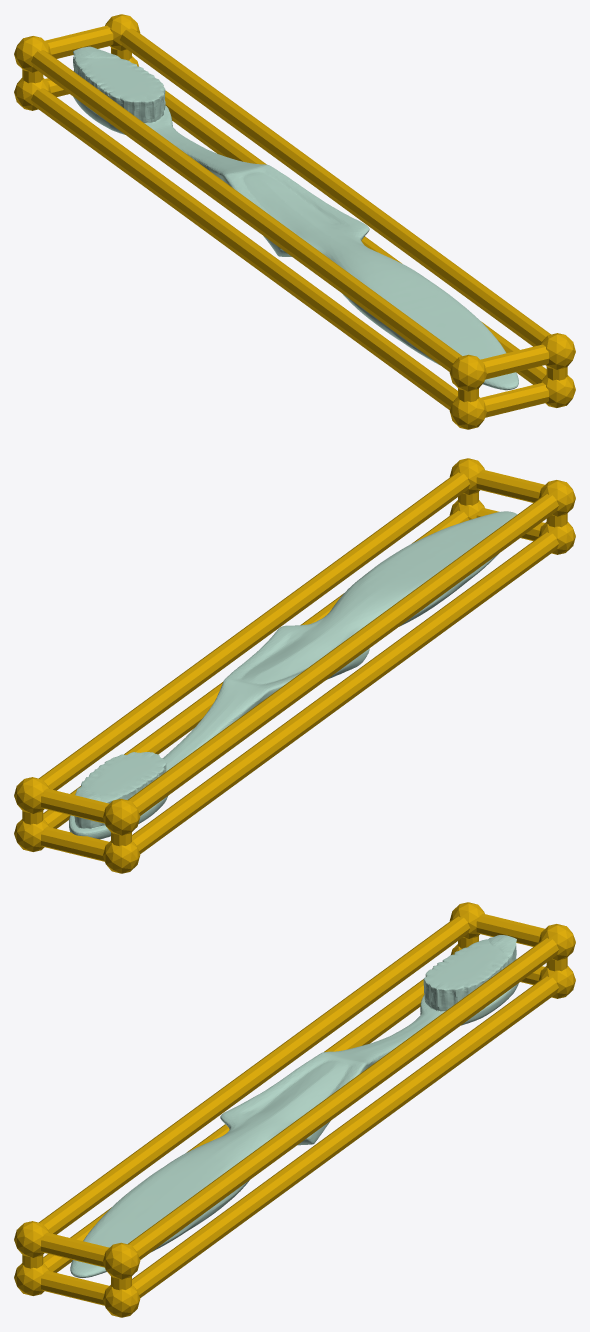
File: sam3d_with_obb_viewer.glb
3 views of the same model, one above another, from view 1: azimuth 30°, elevation 25°; view 2: azimuth 150°, elevation 25°; view 3: azimuth 330°, elevation 25° (orthographic).
Parts seen in each view (by area): view 1: world; view 2: world; view 3: world.
Boxes of the visible parts, x1=… form: world: x1=14, y1=14, x2=575, y2=429; world: x1=14, y1=458, x2=575, y2=873; world: x1=14, y1=902, x2=575, y2=1317.
Bounding box in the file's own units: 0.0241 × 0.0137 × 0.1565.
